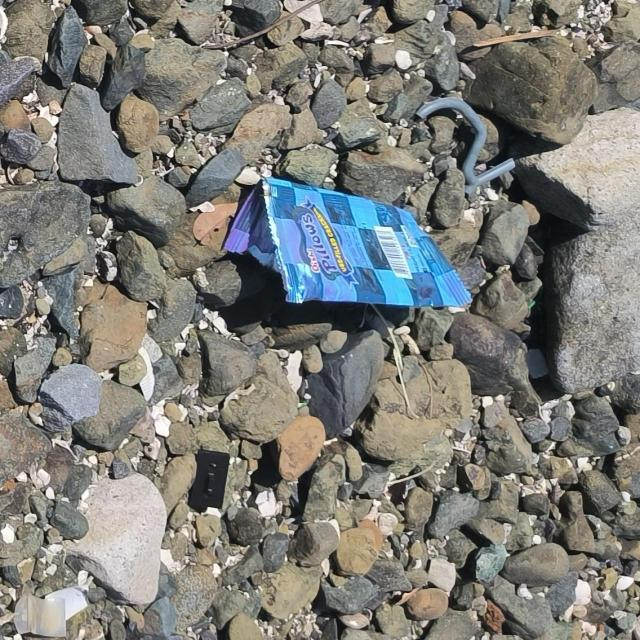litter: (222, 175, 474, 309)
